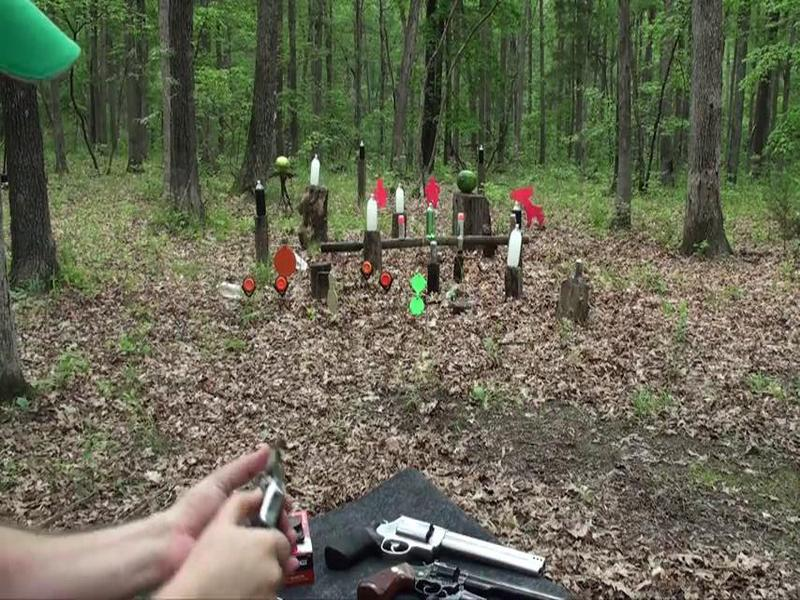Revolver: (313, 513, 554, 591)
